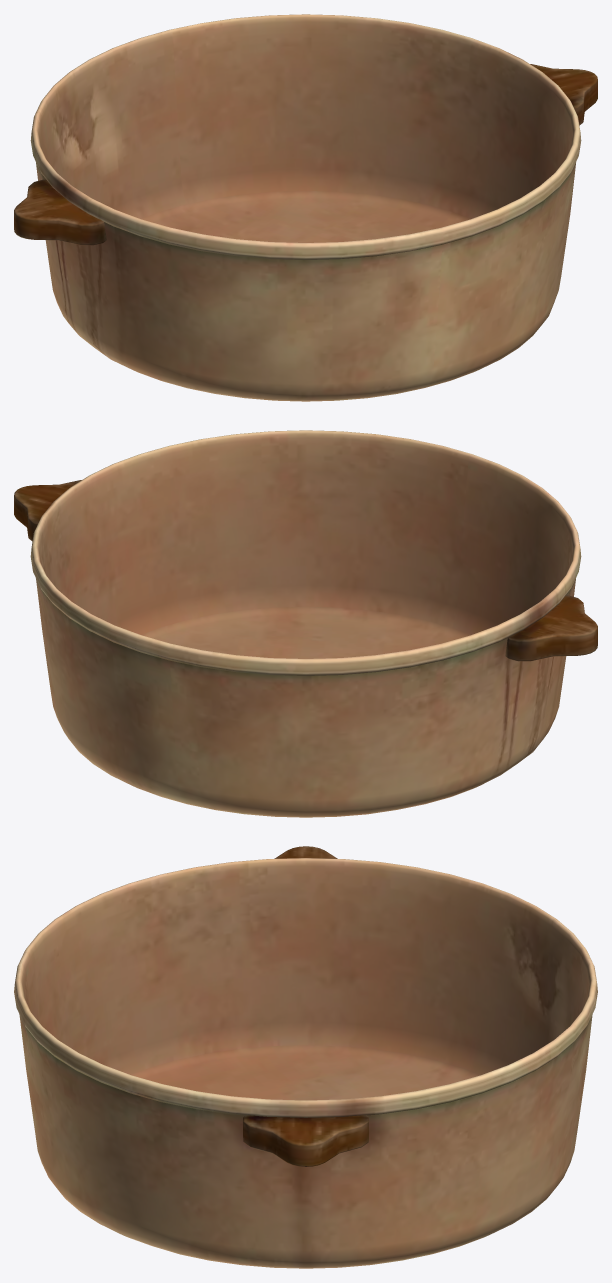
File: brasspot2.glb
3 renders of one model, top to bottom at view 1: azimuth 30°, elevation 25°; view 2: azimuth 150°, elevation 25°; view 3: azimuth 270°, elevation 25°, orthographic. The views are drawn at different scales.
Parts seen in each view (by area): view 1: brass_pot_02; view 2: brass_pot_02; view 3: brass_pot_02.
Part boxes in pixels (box(x1,y1,x2,y2)): brass_pot_02: box(14, 14, 597, 401); brass_pot_02: box(14, 430, 597, 817); brass_pot_02: box(14, 846, 597, 1268).
Size of the model in its own units: 0.3666 by 0.1085 by 0.3023.
1 material, 1 textured.
